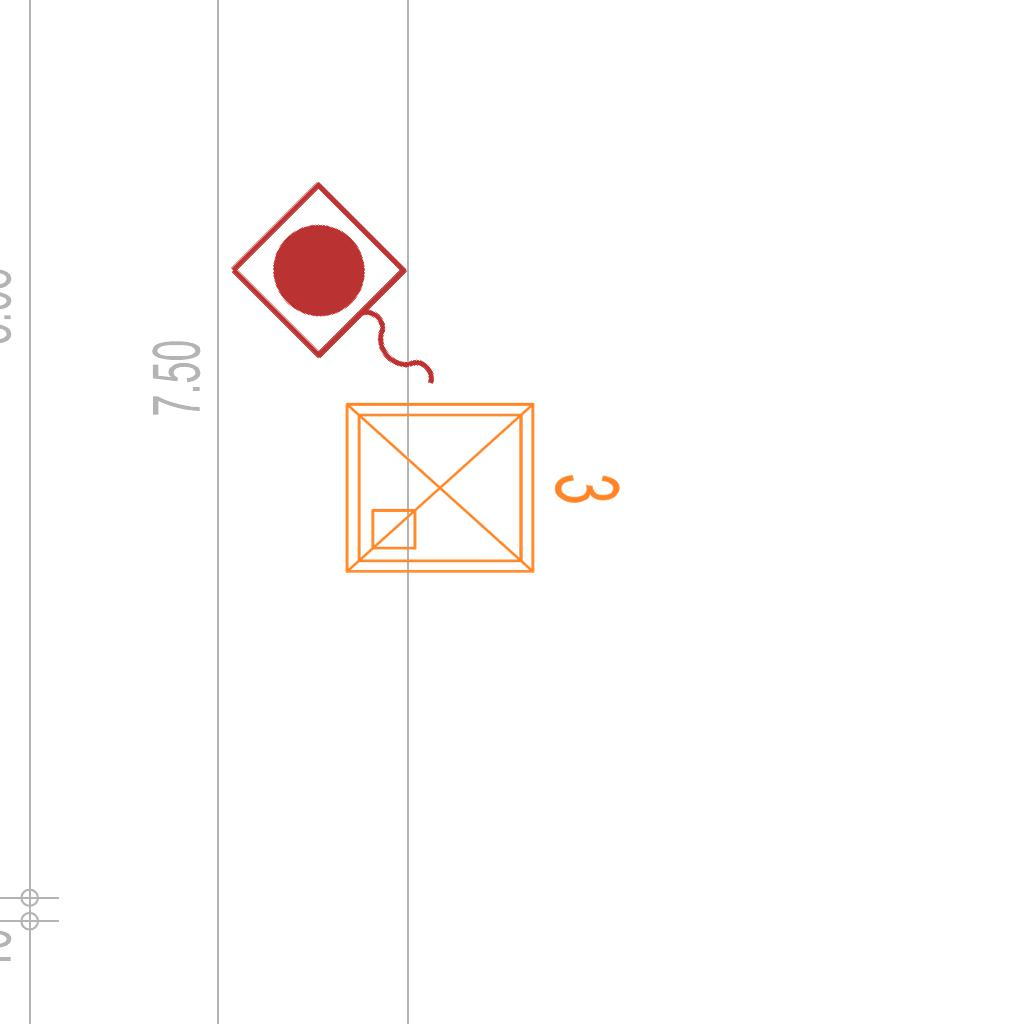Einbaudownlights_LED_Konferenzraeume: (331, 380, 631, 588)
Zugtaster: (215, 169, 491, 445)
